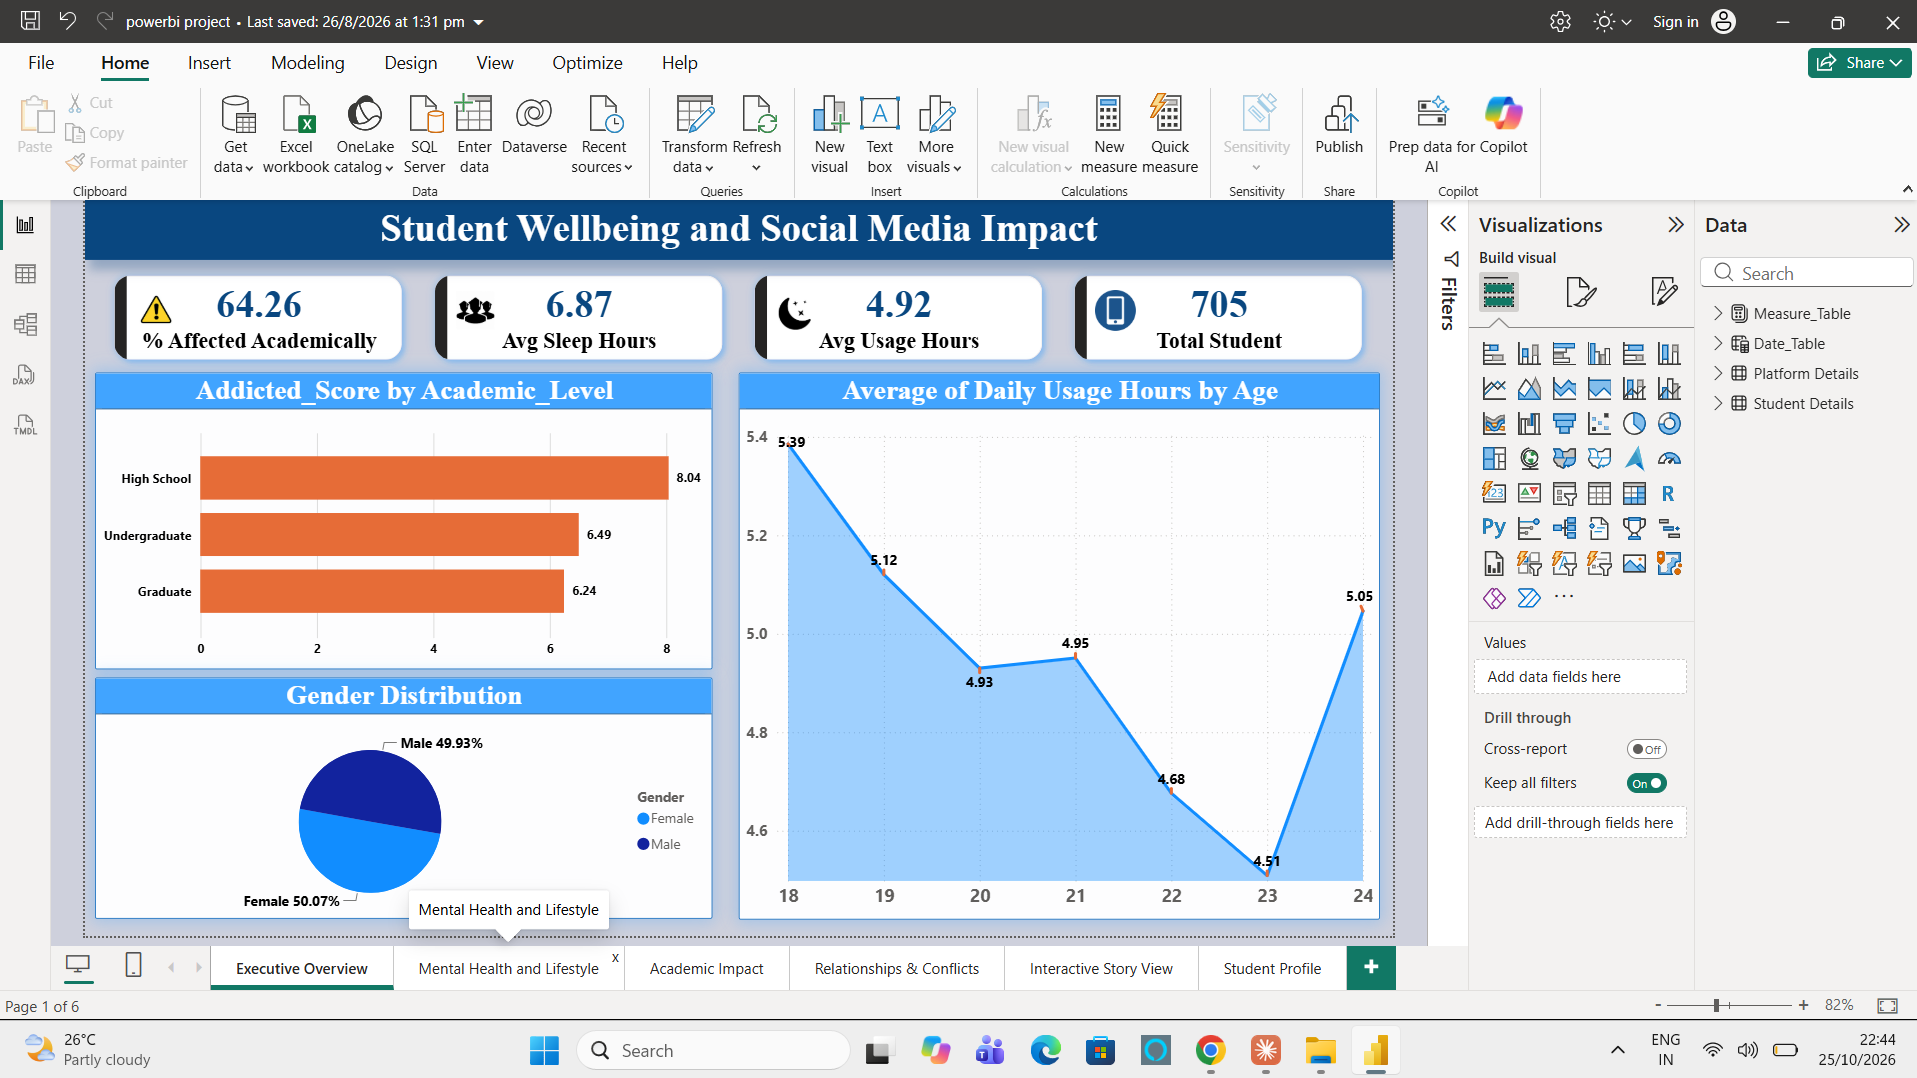

The dashboard page shown, as its layout file describes it:
{"tool":"powerbi","page":{"name":"Page 1","canvas":[1280,720],"ordinal":0},"visuals":[{"type":"cardVisual","fields":{"Data":["Measure_Table.% Affected Academically","Measure_Table.Avg Sleep Hours","Measure_Table.Avg Usage Hours","Measure_Table.Total Student"]},"box":[0,45,1280,140],"z":0},{"type":"image","box":[988,88,40,40],"z":1000},{"type":"image","box":[678.7,89.3,31.2,43.8],"z":2000},{"type":"image","box":[44,89.3,51.2,36.2],"z":3000},{"type":"image","box":[360.7,89.3,42.5,37.5],"z":4000},{"type":"clusteredBarChart","title":" Addicted_Score by Academic_Level","fields":{"Category":["Student Details.Academic_Level"],"Y":["Avg(Student Details.Addicted_Score)"]},"box":[10,168.8,603.8,290],"z":5000},{"type":"textbox","box":[0,0,1280,58.8],"z":6000},{"type":"pieChart","title":"Gender Distribution","fields":{"Y":["CountNonNull(Student Details.Student_ID)"],"Category":["Student Details.Gender"]},"box":[10,467.5,603.8,236.2],"z":7000},{"type":"lineChart","title":"Average of Daily Usage Hours by Age","fields":{"Category":["Student Details.Age"],"Y":["Avg(Platform Details.Avg_Daily_Usage_Hours)"]},"box":[640,168.8,627.5,535],"z":8000}]}

Visuals, with their boxes on the page's 1280x720 design canvas (x1, y1, x2, y2). These are canvas units, not pixel positions in the 1917x1078 screenshot, which may show the page scaled, cropped or inside an application window:
cardVisual - Measure_Table.% Affected Academically x Measure_Table.Avg Sleep Hours: select_region(0, 45, 1280, 185)
image: select_region(988, 88, 1028, 128)
image: select_region(679, 89, 710, 133)
image: select_region(44, 89, 95, 126)
image: select_region(361, 89, 403, 127)
" Addicted_Score by Academic_Level" clusteredBarChart: select_region(10, 169, 614, 459)
textbox: select_region(0, 0, 1280, 59)
"Gender Distribution" pieChart: select_region(10, 468, 614, 704)
"Average of Daily Usage Hours by Age" lineChart: select_region(640, 169, 1268, 704)
